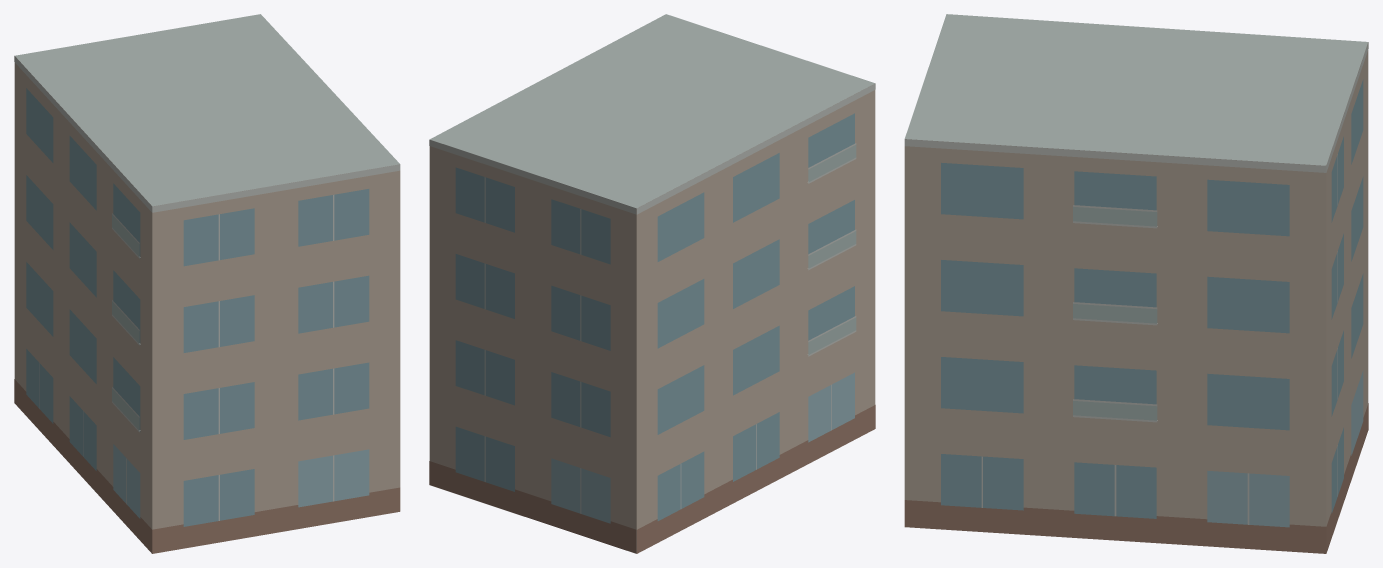
The model's file is survey-upis-32742392.glb.
3 renders of one model, left to right at view 1: azimuth 30°, elevation 25°; view 2: azimuth 150°, elevation 25°; view 3: azimuth 270°, elevation 25°, orthographic. The views are drawn at different scales.
Parts seen in each view (by area): view 1: survey-upis-32742392.tmp; view 2: survey-upis-32742392.tmp; view 3: survey-upis-32742392.tmp.
Part boxes in pixels (bbox=[...]): survey-upis-32742392.tmp: bbox=[14, 14, 400, 553]; survey-upis-32742392.tmp: bbox=[429, 14, 875, 553]; survey-upis-32742392.tmp: bbox=[904, 14, 1368, 553].
Size of the model in its own units: 11.08 by 13.2 by 14.31.
